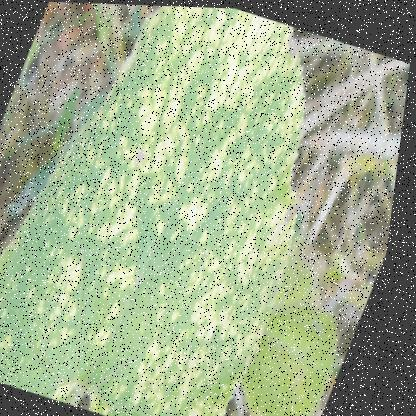DownyMildew: (0, 81, 205, 386), (91, 3, 290, 178), (158, 149, 323, 334), (98, 294, 269, 415), (241, 28, 340, 175)
